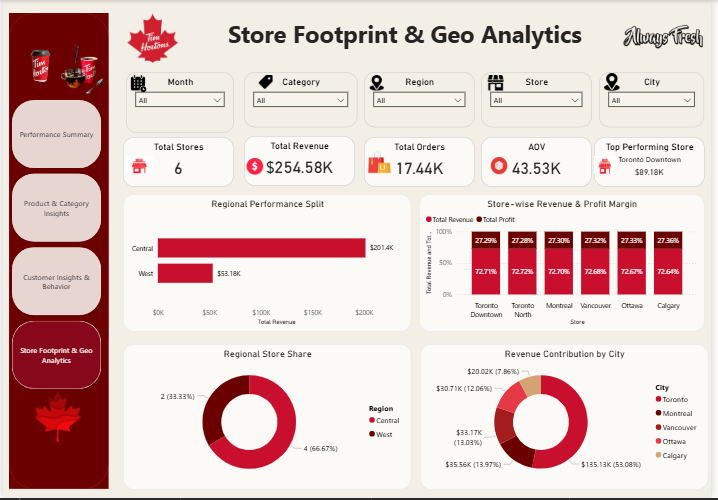

This screenshot's page, from the dashboard's own definition file:
{"tool":"powerbi","page":{"name":"Store Footprint & Geo Analytics","canvas":[1280,900],"ordinal":3},"visuals":[{"type":"shape","box":[10,24.3,180,860],"z":0},{"type":"image","box":[206.7,24.6,128.7,88.2],"z":1000},{"type":"image","box":[1118.6,20,148.6,92.9],"z":2000},{"type":"image","box":[10,67.1,114.3,108.6],"z":3000},{"type":"image","box":[16,47.9,174.2,165.5],"z":4000},{"type":"image","box":[47.1,680,104.3,145.7],"z":5000},{"type":"textbox","box":[360,27.5,733,68],"z":6000},{"type":"slicer","title":"Category","fields":{"Values":["DimProduct.Category"]},"box":[435,130,205,100],"z":7000},{"type":"image","box":[448.3,135,53.3,25],"z":8000},{"type":"slicer","title":"Region","fields":{"Values":["DimLocation.Region"]},"box":[651.7,130,200,100],"z":9000},{"type":"slicer","title":"Store","fields":{"Values":["DimStore.Store"]},"box":[863.3,130,200,100],"z":10000},{"type":"image","box":[873.3,135,35,28.3],"z":11000},{"type":"card","title":"Total Stores","fields":{"Values":["CountNonNull(DimStore.Store)"]},"box":[216.9,247.2,199.5,89.6],"z":12000},{"type":"card","title":"Top Performing Store","fields":{"Values":["_Measures.Top Store Sales"]},"box":[1068.4,247.2,199.5,89.6],"z":13000},{"type":"clusteredBarChart","title":"Regional Performance Split","fields":{"Category":["DimLocation.Region"],"Y":["_Measures.Total Revenue"]},"box":[217.1,350,521.4,248.6],"z":14000},{"type":"hundredPercentStackedColumnChart","title":"Store-wise Revenue & Profit Margin","fields":{"Category":["DimStore.Store"],"Y":["_Measures.Total Revenue","_Measures.Total Profit"]},"box":[751.4,350,515.7,248.6],"z":15000},{"type":"donutChart","title":"Regional Store Share","fields":{"Category":["DimLocation.Region"],"Y":["CountNonNull(DimStore.Store)"]},"box":[217.1,621.4,521.4,262.9],"z":16000},{"type":"donutChart","title":"Revenue Contribution by City","fields":{"Category":["DimLocation.City"],"Y":["_Measures.Total Revenue"]},"box":[752.9,621.4,521.4,262.9],"z":17000},{"type":"image","box":[658.3,135,35,28.3],"z":18000},{"type":"image","box":[1068.3,281.7,40,31.7],"z":19000},{"type":"image","box":[221.5,281.5,49.2,30.8],"z":20000},{"type":"slicer","title":"City","fields":{"Values":["DimStore.City"]},"box":[1076.7,130,190,100],"z":21000},{"type":"slicer","title":"Month","fields":{"Values":["DimDate.Month"]},"box":[221.7,130,195,110],"z":22000},{"type":"image","box":[1085,131.7,31.7,31.7],"z":23000},{"type":"image","box":[230,135,31,31],"z":24000},{"type":"card","title":"Total Revenue","fields":{"Values":["_Measures.Total Revenue"]},"box":[435,246.7,199.5,89.6],"z":25000},{"type":"image","box":[438.3,285,31.7,30],"z":26000},{"type":"card","title":"Total Orders","fields":{"Values":["_Measures.Total Orders"]},"box":[652,247.2,199.5,89.6],"z":27000},{"type":"image","box":[658.5,270.8,44.6,44.6],"z":28000},{"type":"card","title":"AOV","fields":{"Values":["_Measures.Total Units Sold"]},"box":[863.1,247.2,199.5,89.6],"z":29000},{"type":"image","box":[876.9,284.6,40,30.8],"z":30000},{"type":"pageNavigator","box":[16.7,180,161.7,523.3],"z":30001}]}

Visuals, with their boxes in screenshot pixels (x1, y1, x2, y2), scaled from the page's 1280x900 canvas onto the 718x500 screenshot:
shape: bbox(6, 14, 107, 491)
image: bbox(116, 14, 188, 63)
image: bbox(627, 11, 711, 63)
image: bbox(6, 37, 70, 98)
image: bbox(9, 27, 107, 119)
image: bbox(26, 378, 85, 459)
textbox: bbox(202, 15, 613, 53)
"Category" slicer: bbox(244, 72, 359, 128)
image: bbox(251, 75, 281, 89)
"Region" slicer: bbox(366, 72, 478, 128)
"Store" slicer: bbox(484, 72, 596, 128)
image: bbox(490, 75, 509, 91)
"Total Stores" card: bbox(122, 137, 234, 187)
"Top Performing Store" card: bbox(599, 137, 711, 187)
"Regional Performance Split" clusteredBarChart: bbox(122, 194, 414, 333)
"Store-wise Revenue & Profit Margin" hundredPercentStackedColumnChart: bbox(421, 194, 711, 333)
"Regional Store Share" donutChart: bbox(122, 345, 414, 491)
"Revenue Contribution by City" donutChart: bbox(422, 345, 715, 491)
image: bbox(369, 75, 389, 91)
image: bbox(599, 156, 622, 174)
image: bbox(124, 156, 152, 174)
"City" slicer: bbox(604, 72, 711, 128)
"Month" slicer: bbox(124, 72, 234, 133)
image: bbox(609, 73, 626, 91)
image: bbox(129, 75, 146, 92)
"Total Revenue" card: bbox(244, 137, 356, 187)
image: bbox(246, 158, 264, 175)
"Total Orders" card: bbox(366, 137, 478, 187)
image: bbox(369, 150, 394, 175)
"AOV" card: bbox(484, 137, 596, 187)
image: bbox(492, 158, 514, 175)
pageNavigator: bbox(9, 100, 100, 391)
